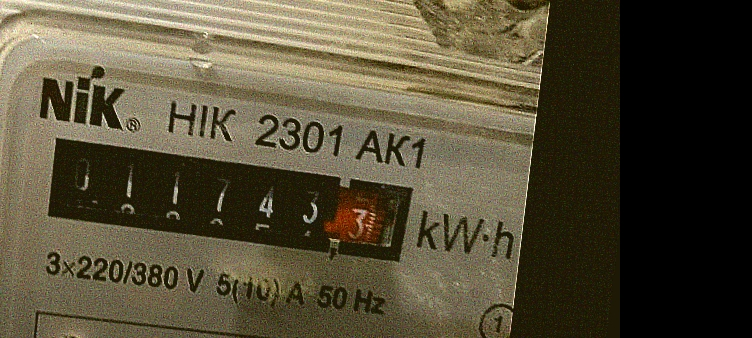0: (68, 153, 94, 195), (117, 158, 140, 201)
1: (164, 165, 185, 207)
3: (297, 184, 322, 229), (344, 203, 368, 243)
4: (253, 179, 278, 221)
7: (206, 170, 234, 216)
screen: (24, 122, 422, 274)
